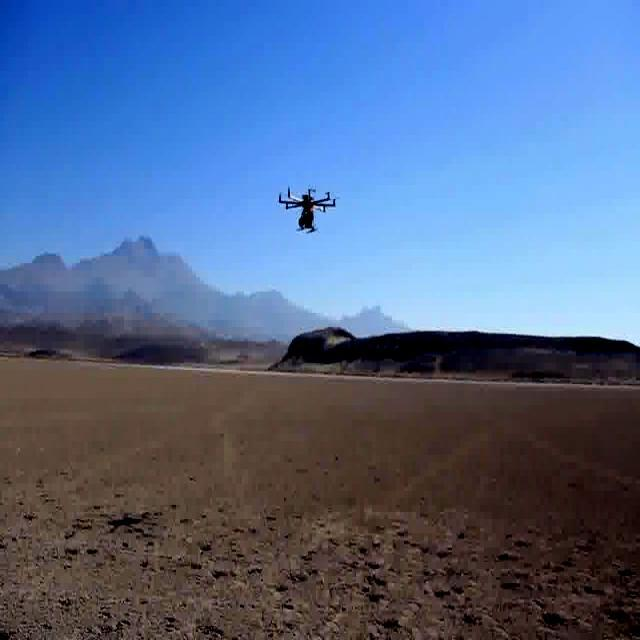drone: (274, 181, 338, 238)
